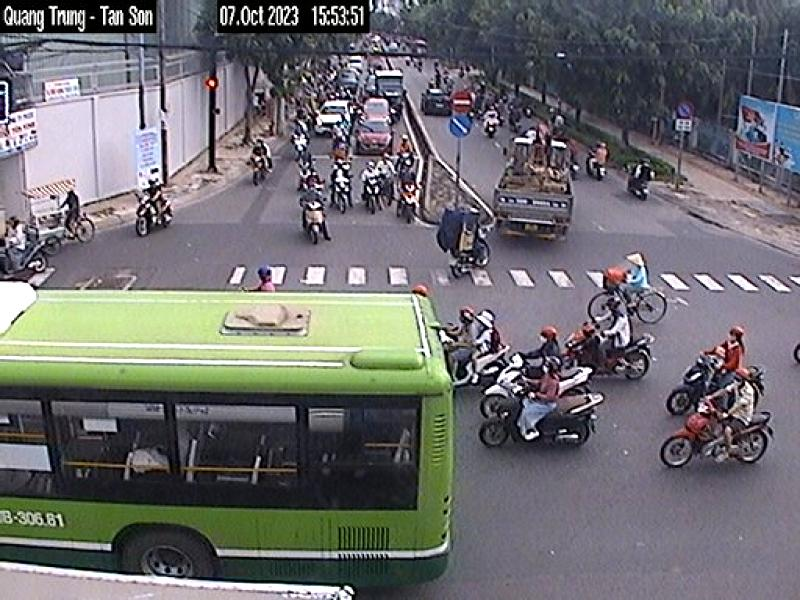bus: (0, 280, 458, 589)
motorcycle: (480, 386, 606, 450), (660, 401, 773, 468), (556, 325, 655, 376), (669, 364, 766, 412)
truck: (492, 135, 574, 242)
